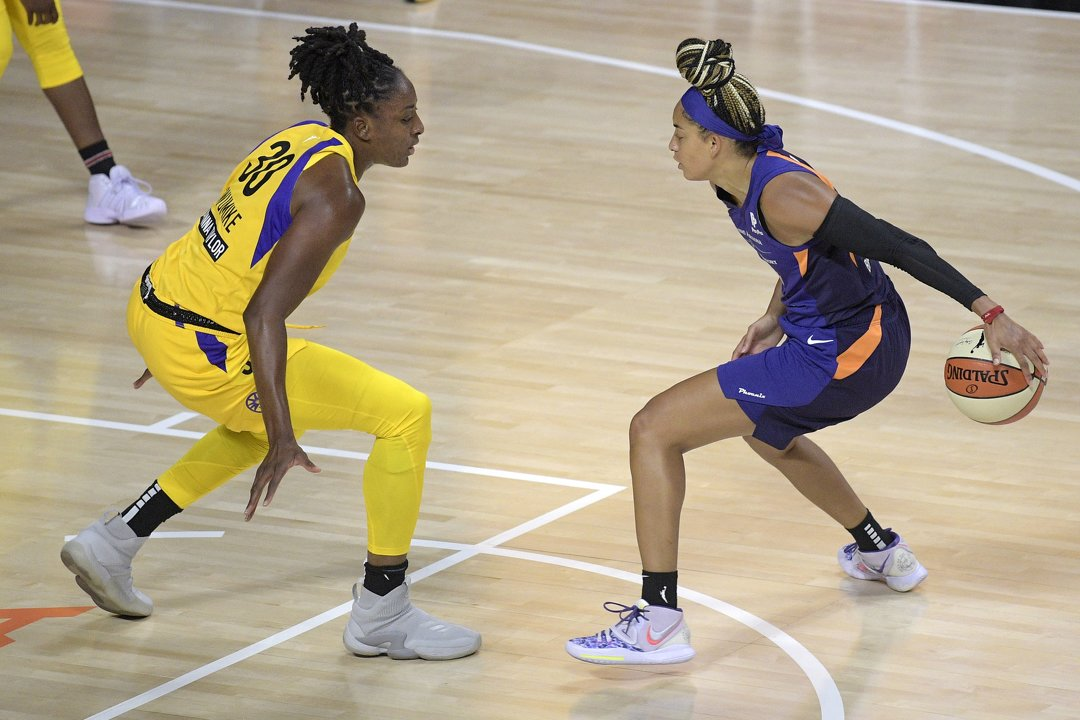b_ball: (937, 321, 1051, 433)
face: (282, 28, 434, 171), (647, 32, 769, 191)
player: (547, 34, 1041, 678), (25, 16, 496, 668)
